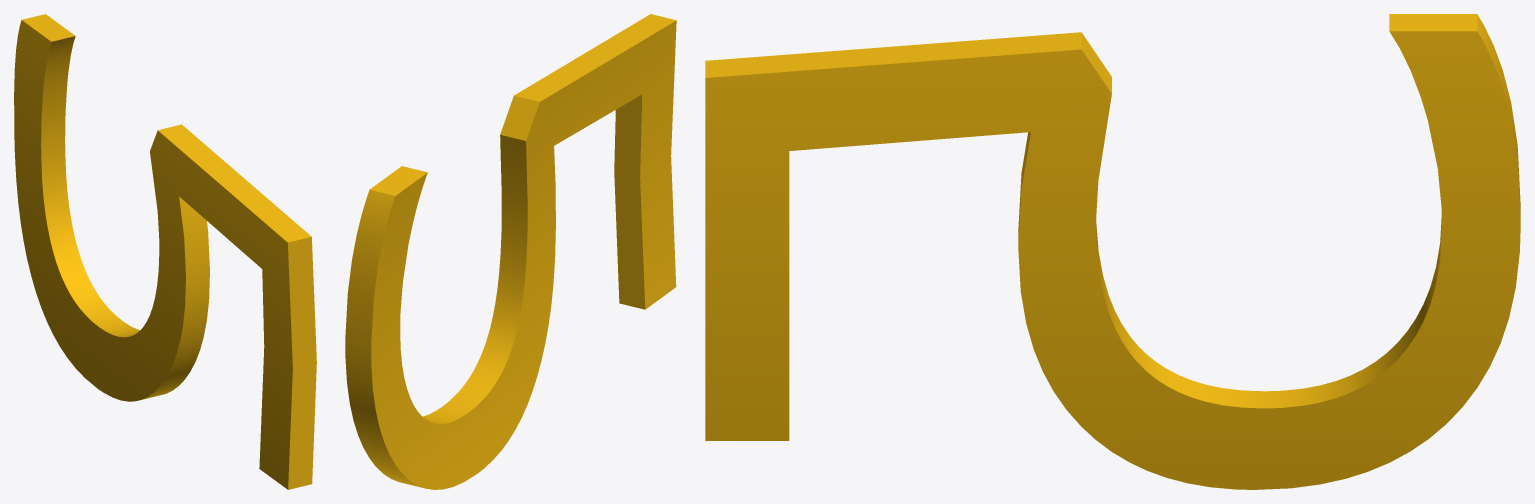
Rendered from Number_5.gltf.
3 views of the same model, side by side, from view 1: azimuth 30°, elevation 25°; view 2: azimuth 150°, elevation 25°; view 3: azimuth 270°, elevation 25° (orthographic). The views are drawn at different scales.
Visible parts, largest first — view 1: Sub_4_Cell_1_2_Number_5; view 2: Sub_4_Cell_1_2_Number_5; view 3: Sub_4_Cell_1_2_Number_5.
Boxes of the visible parts, <box> form: Sub_4_Cell_1_2_Number_5: <box>14,14,316,489</box>; Sub_4_Cell_1_2_Number_5: <box>345,14,676,489</box>; Sub_4_Cell_1_2_Number_5: <box>705,14,1520,489</box>.
Size of the model in its own units: 0.00169 by 0.0158 by 0.0255.
